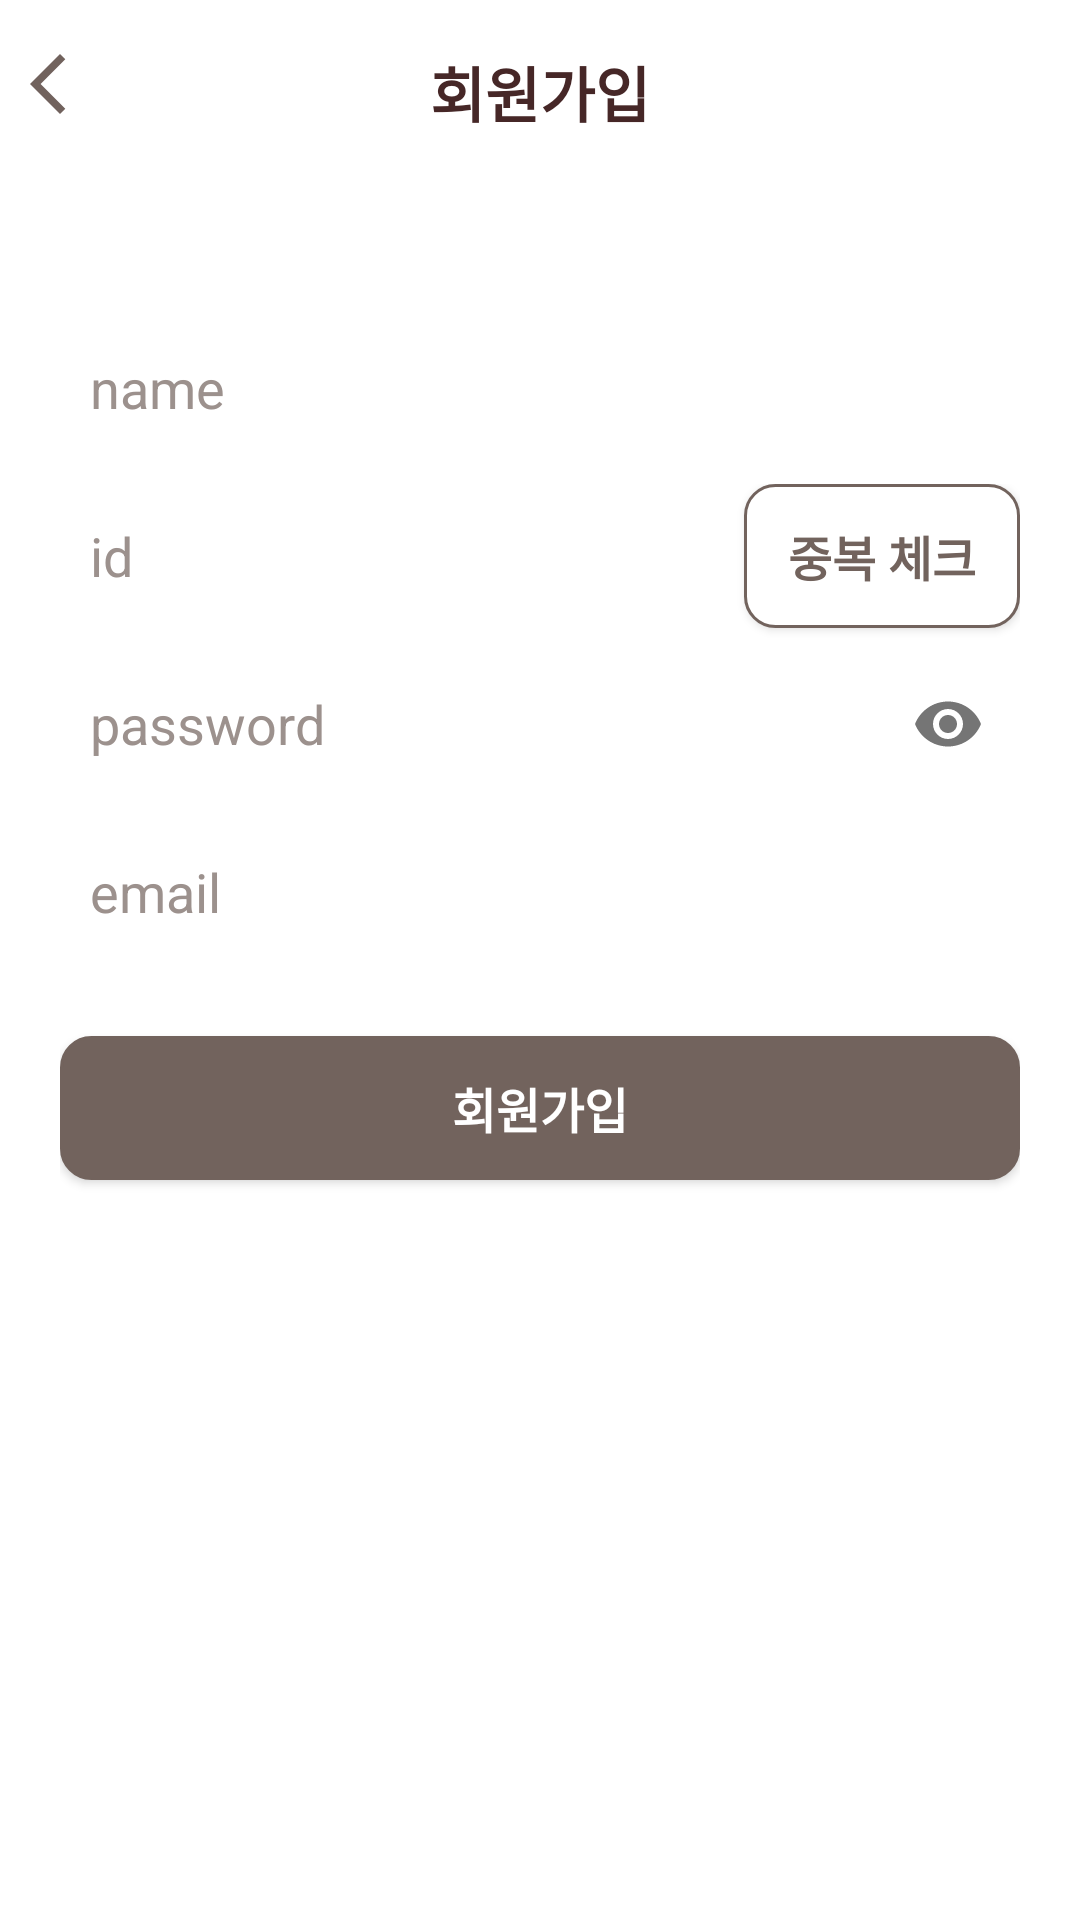

Screen size 1080 x 1920. Icon name, then its box in pixels as (x1, y1, x2, y2):
arrow back: (30, 54, 65, 114)
